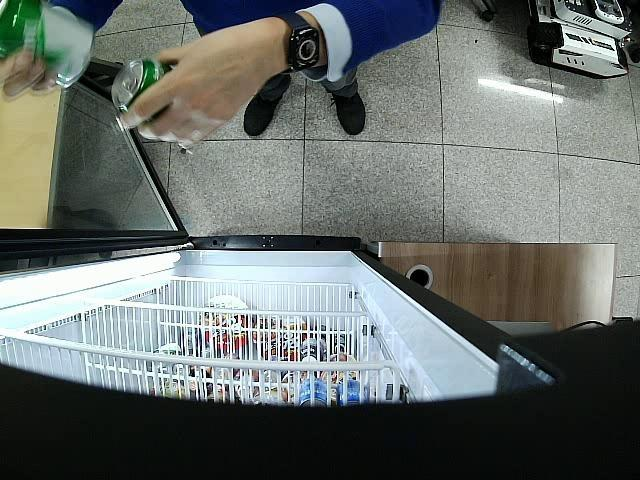12_chilsungCider: (0, 0, 95, 91), (111, 58, 171, 123)
